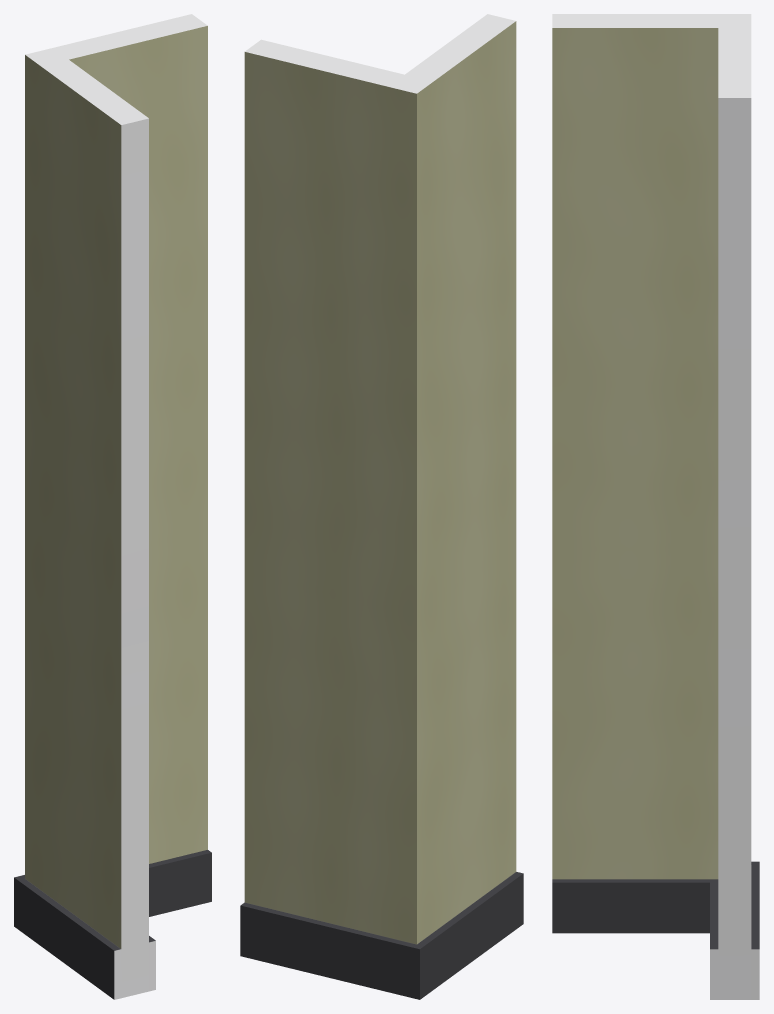
File: SM_Buildings_Wall_CornerIn_01_DoubleWallpaper.fbx
The picture shows the model from 3 angles, left to right: view 1: azimuth 30°, elevation 25°; view 2: azimuth 150°, elevation 25°; view 3: azimuth 270°, elevation 25°; orthographic projection. The views are drawn at different scales.
Visible parts, largest first — view 1: SM_Buildings_Wall_CornerIn_01_DoubleWallpaper; view 2: SM_Buildings_Wall_CornerIn_01_DoubleWallpaper; view 3: SM_Buildings_Wall_CornerIn_01_DoubleWallpaper.
Part boxes in pixels (left/top/right/bottom): SM_Buildings_Wall_CornerIn_01_DoubleWallpaper: left=14, top=14, right=211, bottom=999; SM_Buildings_Wall_CornerIn_01_DoubleWallpaper: left=240, top=14, right=523, bottom=999; SM_Buildings_Wall_CornerIn_01_DoubleWallpaper: left=552, top=14, right=759, bottom=999.
Bounding box in the file's own units: 62.5 × 300 × 62.5.
Materials: 1 (1 with a texture image).
